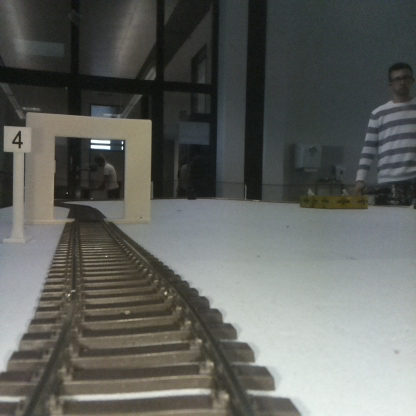white-info-4: (3, 127, 31, 241)
